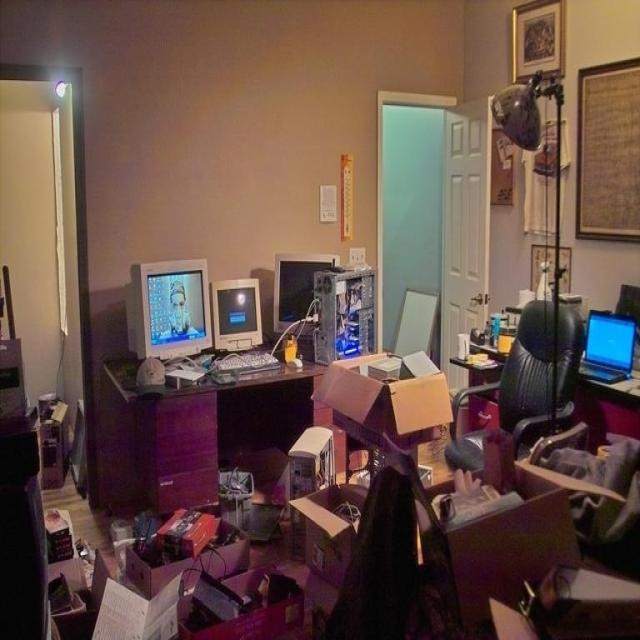E-waste: (118, 240, 378, 376), (578, 288, 640, 402)
